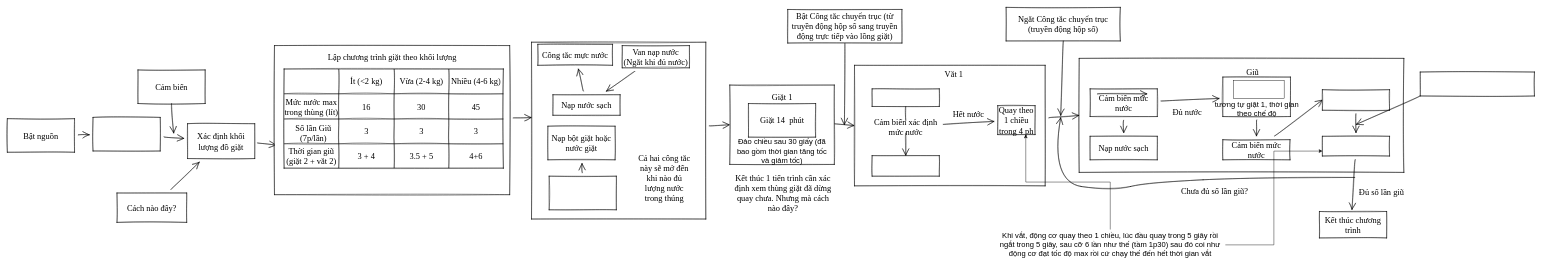
The diagram is 1542 pixels wide and 268 high, and some of its shapes have lost their labels. Each missing label, with the centre of its shape:
"Bật Công tắc chuyển trục" goes at pixel 1477 84.
"Giặt 2" goes at pixel 1258 89.
"Nút Start" goes at pixel 126 134.
"Van xả nước" goes at pixel 905 97.
"Van xả nước nạp xà phòng" goes at pixel 582 193.
"Vắt 2" goes at pixel 1356 146.
"Xả nước" goes at pixel 1356 99.
"Xả nước bẩn" goes at pixel 905 165.
